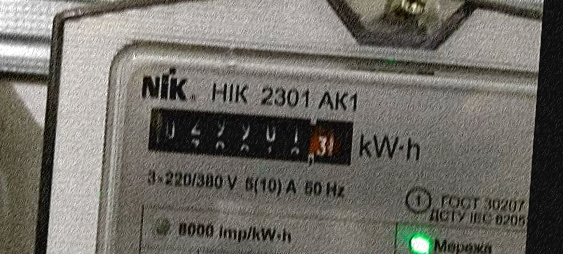0: (262, 117, 279, 143), (161, 116, 177, 139)
1: (289, 119, 303, 144)
2: (187, 113, 204, 136)
3: (313, 133, 330, 157)
9: (238, 118, 252, 141), (213, 115, 227, 137)
screen: (138, 98, 363, 176)
